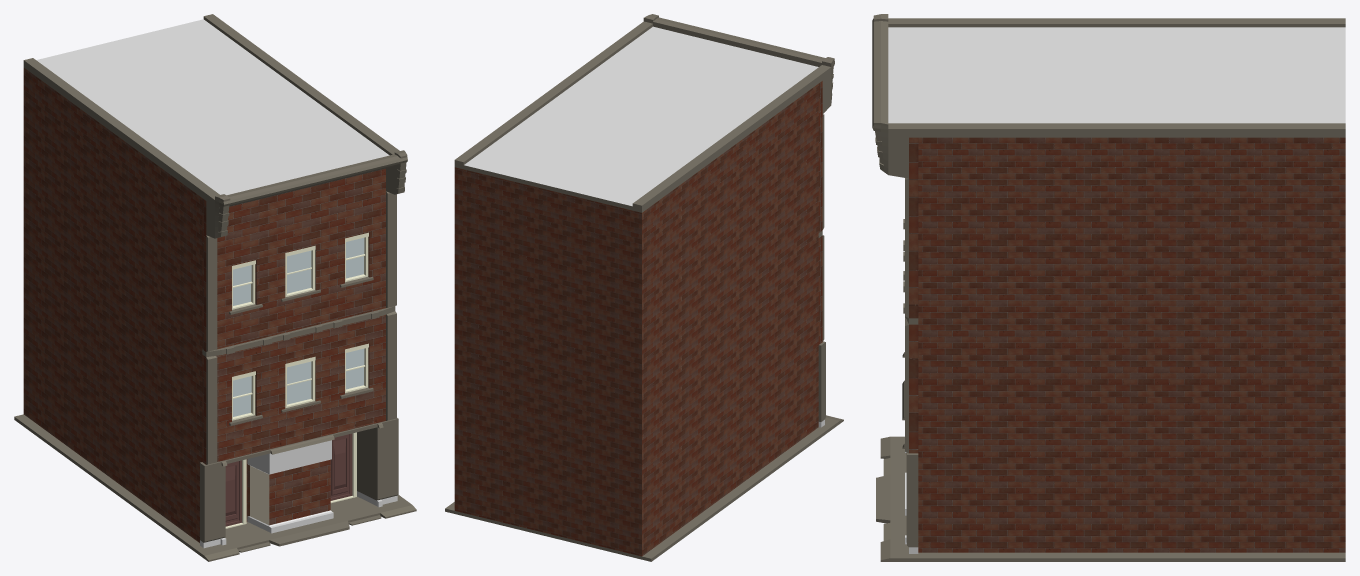
The model's file is Building.fbx.
3 views of the same model, side by side, from view 1: azimuth 30°, elevation 25°; view 2: azimuth 150°, elevation 25°; view 3: azimuth 270°, elevation 25° (orthographic). The views are drawn at different scales.
Parts seen in each view (by area): view 1: Cube.036; view 2: Cube.036; view 3: Cube.036.
Part boxes in pixels (left/top/right/bottom): Cube.036: left=14, top=14, right=416, bottom=561; Cube.036: left=445, top=14, right=843, bottom=561; Cube.036: left=872, top=14, right=1345, bottom=561.
Bounding box in the file's own units: 676 × 1122 × 1112.
Materials: 6 (1 with a texture image).
